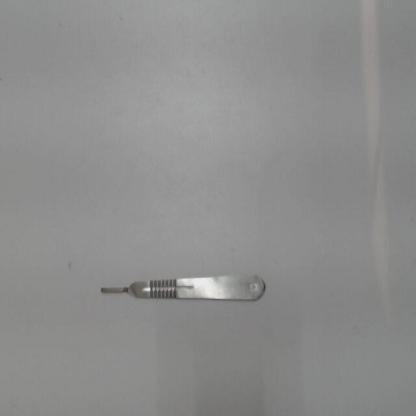No.3 BP Handle: (94, 264, 271, 310)
